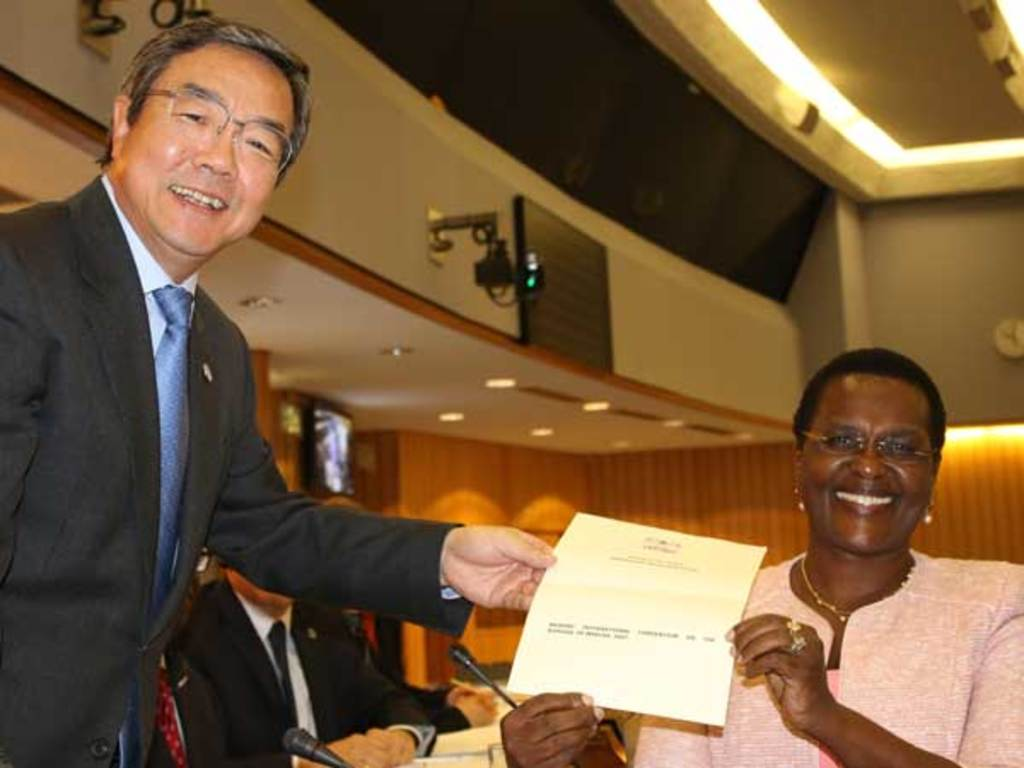Human_hand: (722, 609, 836, 734), (440, 532, 556, 628), (497, 691, 614, 766), (302, 734, 387, 766), (367, 724, 418, 763)
